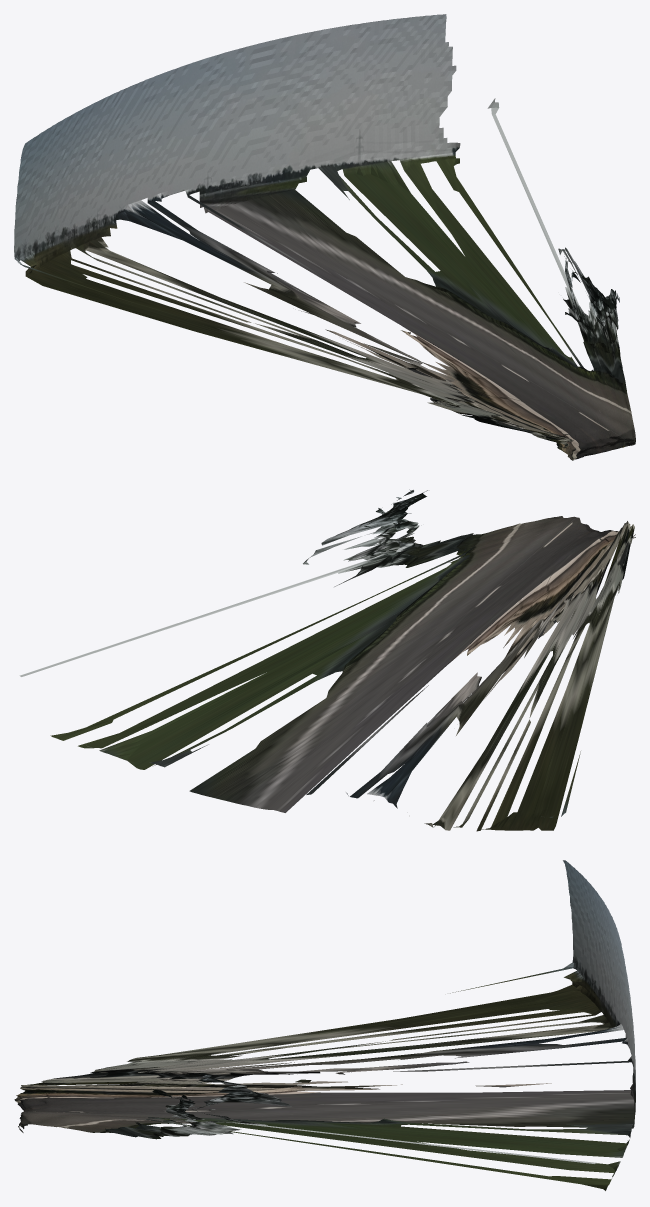
3 renders of one model, top to bottom at view 1: azimuth 30°, elevation 25°; view 2: azimuth 150°, elevation 25°; view 3: azimuth 270°, elevation 25°, orthographic. The views are drawn at different scales.
Visible parts, largest first — view 1: defaultobject; view 2: defaultobject; view 3: defaultobject.
Part boxes in pixels (x1,y1,x2,y2): defaultobject: [14, 14, 635, 460]; defaultobject: [19, 489, 635, 831]; defaultobject: [14, 860, 635, 1190].
Size of the model in its own units: 36.8 by 12.17 by 44.47.
Materials: 1 (1 with a texture image).
